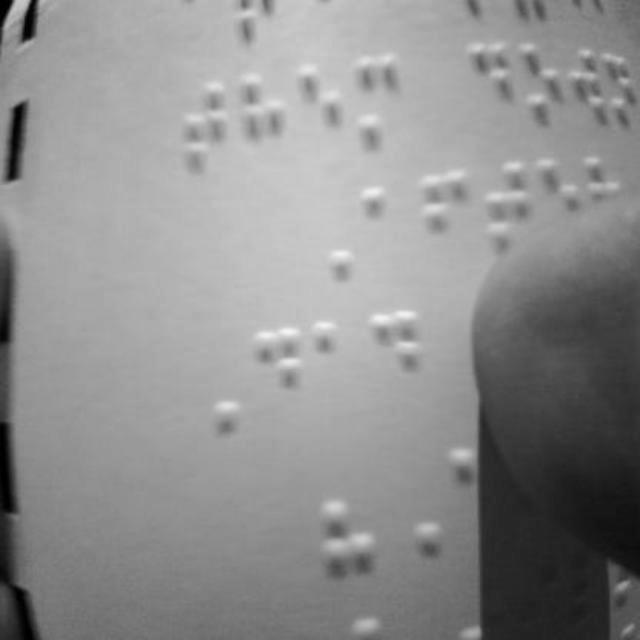braiile: (251, 320, 311, 430), (370, 305, 428, 415), (352, 50, 404, 156), (418, 162, 468, 272), (312, 316, 364, 419), (237, 72, 287, 172), (362, 178, 412, 276), (180, 67, 227, 171), (468, 40, 514, 142), (296, 64, 342, 164), (520, 41, 564, 142)
